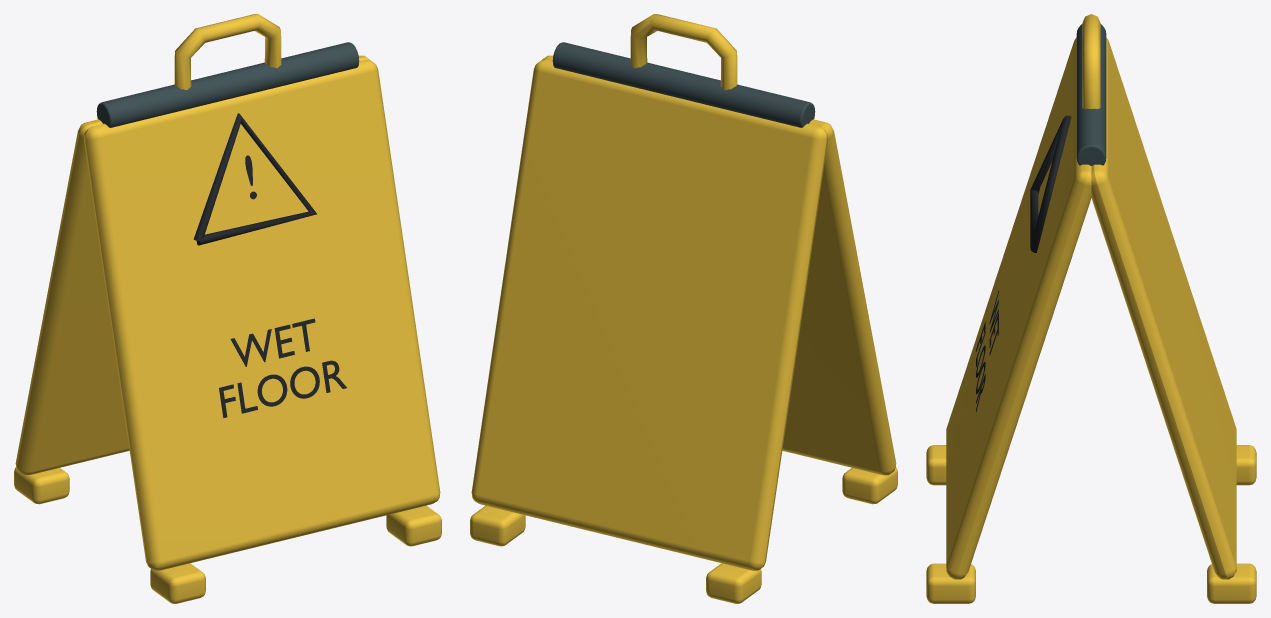
File: HotelTogether-WetFloorSign.glb
3 renders of one model, left to right at view 1: azimuth 30°, elevation 25°; view 2: azimuth 150°, elevation 25°; view 3: azimuth 270°, elevation 25°, orthographic. The views are drawn at different scales.
Parts seen in each view (by area): view 1: Sign_Front, Sign_Back, Sign_Hinge, Sign_CarryHandle, Sign_Lettering, Sign_WarningTriangle, Sign_Foot, Sign_Foot.001, Sign_Foot.002; view 2: Sign_Back, Sign_Front, Sign_Hinge, Sign_CarryHandle, Sign_Foot.002, Sign_Foot.003, Sign_Foot; view 3: Sign_Back, Sign_Front, Sign_Hinge, Sign_WarningTriangle, Sign_CarryHandle, Sign_Foot.001, Sign_Foot.003, Sign_Foot, Sign_Foot.002, Sign_Lettering.
Part boxes in pixels (left/top/right/bottom): Sign_Front: left=84, top=60, right=440, bottom=570; Sign_Back: left=15, top=55, right=369, bottom=475; Sign_Hinge: left=96, top=42, right=359, bottom=127; Sign_CarryHandle: left=174, top=14, right=281, bottom=89; Sign_Lettering: left=219, top=318, right=346, bottom=418; Sign_WarningTriangle: left=193, top=113, right=316, bottom=245; Sign_Foot: left=150, top=563, right=205, bottom=603; Sign_Foot.001: left=386, top=505, right=441, bottom=546; Sign_Foot.002: left=14, top=467, right=69, bottom=504; Sign_Back: left=471, top=60, right=827, bottom=570; Sign_Front: left=542, top=55, right=896, bottom=475; Sign_Hinge: left=552, top=42, right=815, bottom=127; Sign_CarryHandle: left=630, top=14, right=737, bottom=90; Sign_Foot.002: left=706, top=563, right=761, bottom=603; Sign_Foot.003: left=470, top=505, right=525, bottom=546; Sign_Foot: left=842, top=467, right=897, bottom=504; Sign_Back: left=1091, top=37, right=1236, bottom=579; Sign_Front: left=946, top=37, right=1091, bottom=579; Sign_Hinge: left=1076, top=24, right=1106, bottom=165; Sign_WarningTriangle: left=1030, top=115, right=1071, bottom=252; Sign_CarryHandle: left=1082, top=14, right=1100, bottom=109; Sign_Foot.001: left=926, top=563, right=975, bottom=603; Sign_Foot.003: left=1207, top=563, right=1256, bottom=603; Sign_Foot: left=926, top=445, right=946, bottom=485; Sign_Foot.002: left=1236, top=445, right=1256, bottom=485; Sign_Lettering: left=976, top=290, right=998, bottom=411.
Size of the model in its own units: 0.42 by 0.6804 by 0.4.
